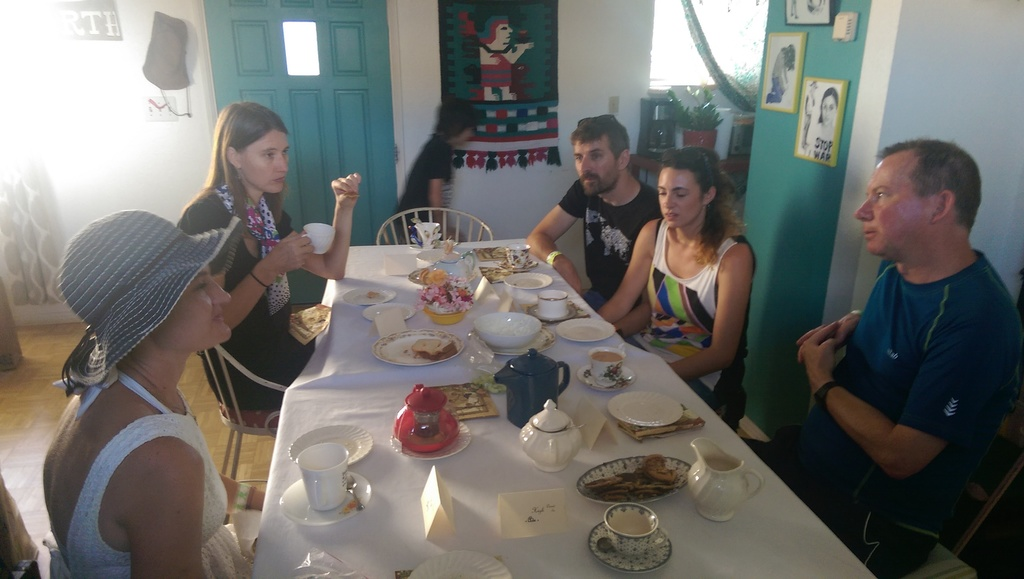Human_hand: (796, 311, 863, 365), (797, 319, 837, 382), (268, 229, 315, 273), (332, 170, 362, 202), (557, 269, 584, 298), (515, 42, 535, 51), (486, 56, 500, 64)
